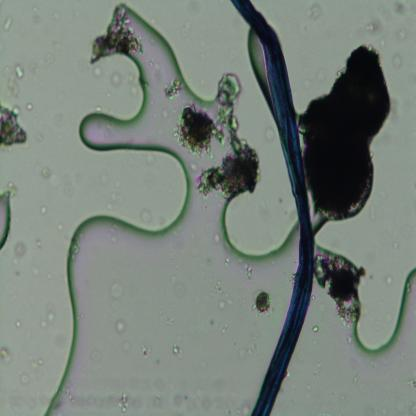Air bubble: (40, 0, 240, 415), (349, 264, 416, 360), (0, 188, 13, 250)
Background material: (300, 42, 392, 224), (314, 249, 364, 327), (197, 145, 261, 199), (87, 7, 144, 62), (180, 102, 226, 158), (216, 72, 246, 153), (168, 377, 208, 413), (0, 105, 27, 152), (105, 274, 128, 312), (2, 63, 24, 98), (252, 289, 274, 320), (168, 271, 191, 300), (240, 326, 260, 356), (216, 280, 232, 312), (43, 42, 58, 68), (116, 391, 131, 416), (107, 191, 126, 210), (38, 311, 56, 331), (164, 80, 183, 97), (392, 2, 412, 18), (171, 336, 183, 361), (366, 20, 386, 35), (240, 258, 253, 281), (0, 344, 13, 366), (139, 207, 153, 226), (31, 13, 45, 30), (113, 317, 126, 335), (110, 69, 123, 87), (140, 342, 153, 360), (143, 152, 157, 168), (220, 253, 234, 269), (1, 16, 14, 33), (392, 52, 403, 71), (15, 240, 27, 257), (89, 66, 104, 78), (41, 165, 53, 180), (212, 228, 221, 247), (31, 263, 42, 277), (30, 62, 40, 77), (14, 314, 23, 329), (20, 373, 32, 384), (40, 204, 48, 216), (26, 101, 36, 110), (312, 325, 318, 336)
Cotton: (231, 0, 315, 414)
